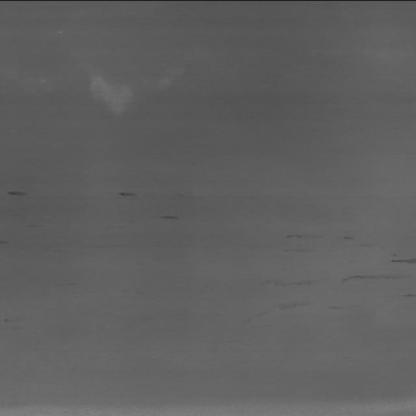water_spot: (317, 252, 413, 300), (104, 190, 203, 220), (3, 180, 35, 204)
